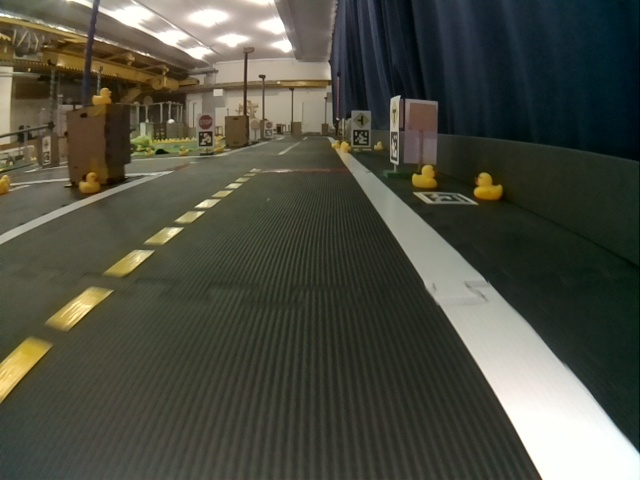Duckie: (473, 172, 501, 198), (412, 167, 437, 185), (78, 173, 100, 192), (92, 87, 112, 105), (1, 174, 11, 193), (145, 147, 154, 156), (178, 147, 188, 155), (375, 142, 383, 150), (341, 143, 348, 151)
Intersection sign: (390, 99, 400, 127), (352, 113, 369, 128)
QR code: (418, 188, 472, 205), (389, 132, 398, 161), (352, 131, 368, 146), (199, 133, 213, 147)
Stop sign: (197, 115, 213, 129)
